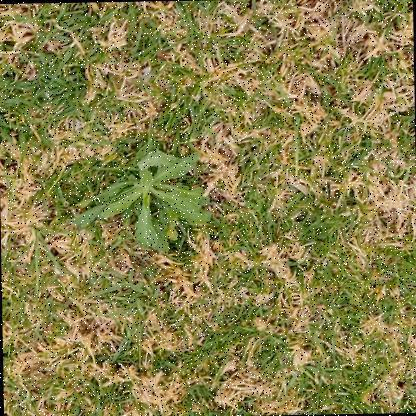Weeds: (64, 122, 213, 258)
